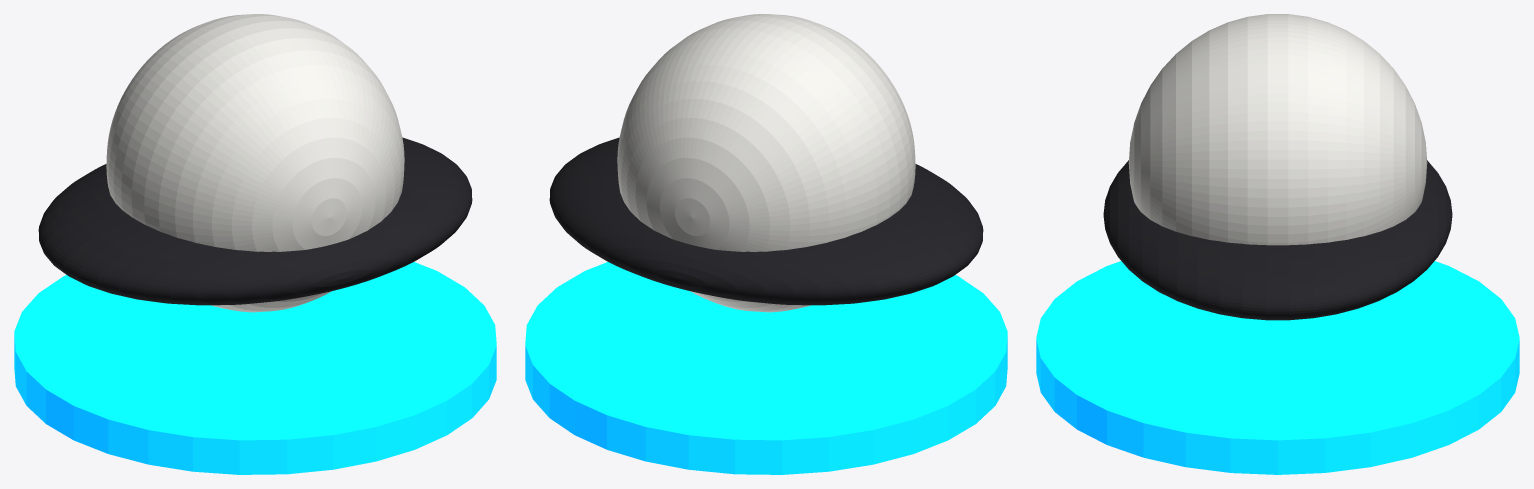
File: french_mime_mask.glb
The picture shows the model from 3 angles, left to right: view 1: azimuth 30°, elevation 25°; view 2: azimuth 150°, elevation 25°; view 3: azimuth 270°, elevation 25°; orthographic projection.
Visible parts, largest first — view 1: 10_13_Popular_French_Mime_Mask_ROOT_base, 10_13_Popular_French_Mime_Mask_part_01, 10_13_Popular_French_Mime_Mask_part_05; view 2: 10_13_Popular_French_Mime_Mask_ROOT_base, 10_13_Popular_French_Mime_Mask_part_01, 10_13_Popular_French_Mime_Mask_part_05; view 3: 10_13_Popular_French_Mime_Mask_ROOT_base, 10_13_Popular_French_Mime_Mask_part_01, 10_13_Popular_French_Mime_Mask_part_05.
Part boxes in pixels (box(x1,y1,x2,y2)): 10_13_Popular_French_Mime_Mask_ROOT_base: box(14, 262, 496, 474); 10_13_Popular_French_Mime_Mask_part_01: box(106, 14, 404, 312); 10_13_Popular_French_Mime_Mask_part_05: box(38, 137, 472, 305); 10_13_Popular_French_Mime_Mask_ROOT_base: box(525, 262, 1007, 474); 10_13_Popular_French_Mime_Mask_part_01: box(617, 14, 915, 312); 10_13_Popular_French_Mime_Mask_part_05: box(549, 137, 983, 305); 10_13_Popular_French_Mime_Mask_ROOT_base: box(1036, 261, 1519, 474); 10_13_Popular_French_Mime_Mask_part_01: box(1128, 14, 1427, 245); 10_13_Popular_French_Mime_Mask_part_05: box(1103, 160, 1452, 320).
Bounding box in the file's own units: 0.76 × 0.598 × 0.76.
